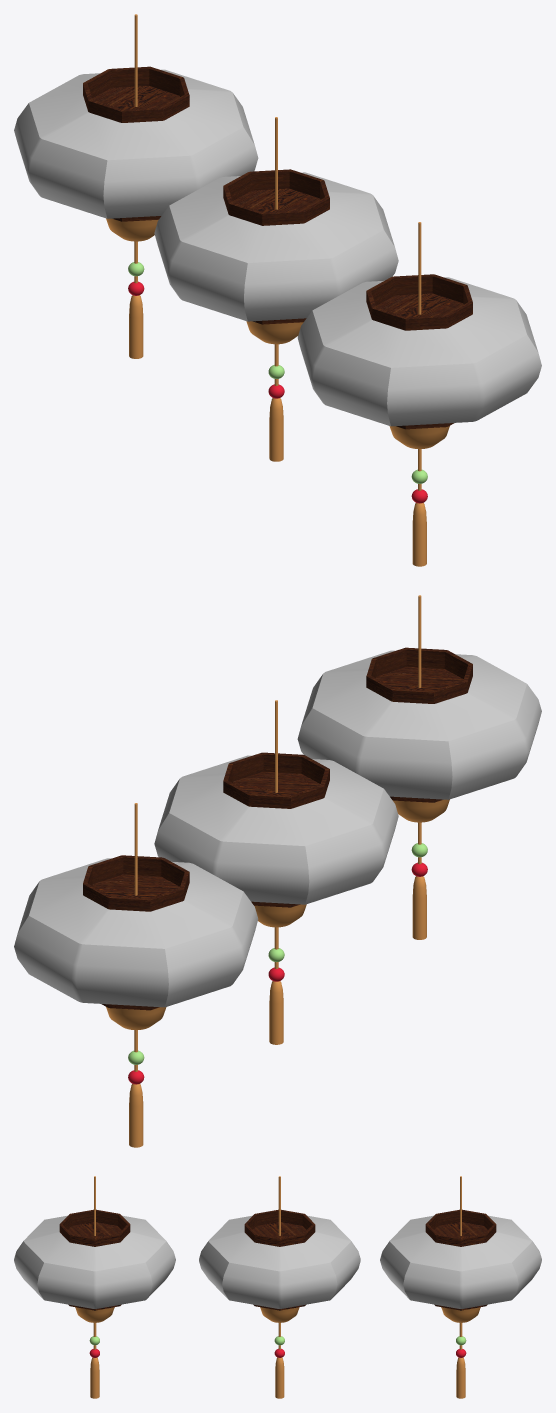
Rendered from Lenternes.fbx.
3 views of the same model, one above another, from view 1: azimuth 30°, elevation 25°; view 2: azimuth 150°, elevation 25°; view 3: azimuth 270°, elevation 25° (orthographic). The views are drawn at different scales.
Parts seen in each view (by area): view 1: lenterne3, lenterne2, lenterne1; view 2: lenterne1, lenterne3, lenterne2; view 3: lenterne2, lenterne1, lenterne3.
Part boxes in pixels (x1,y1,x2,y2): lenterne3: (297, 222, 541, 566); lenterne2: (154, 117, 398, 461); lenterne1: (14, 14, 258, 358); lenterne1: (14, 803, 258, 1147); lenterne3: (297, 595, 541, 939); lenterne2: (154, 700, 398, 1044); lenterne2: (199, 1176, 360, 1398); lenterne1: (380, 1176, 541, 1398); lenterne3: (14, 1176, 175, 1398).
Bounding box in the file's own units: 40 × 60 × 130.
